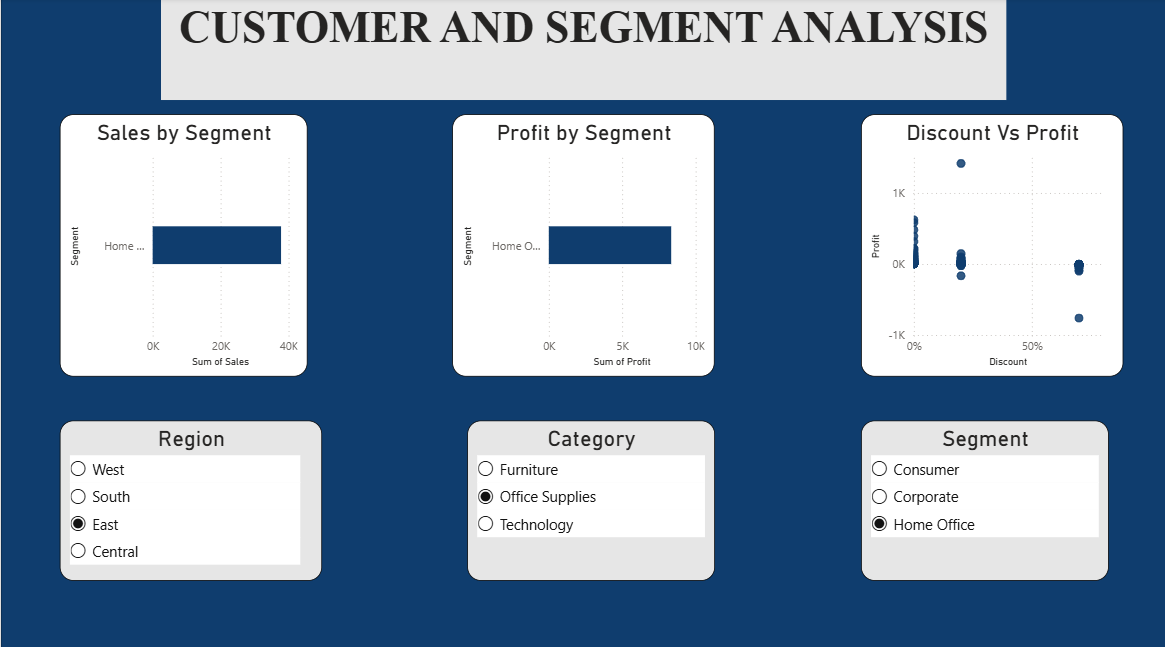

This screenshot's page, from the dashboard's own definition file:
{"tool":"powerbi","page":{"name":"Page 2","canvas":[1280,720],"ordinal":1},"visuals":[{"type":"shape","box":[0,0,1280,720],"z":0},{"type":"clusteredBarChart","title":"Sales by Segment","fields":{"Category":["superstore_data.Segment"],"Y":["Sum(superstore_data.Sales)"]},"box":[64,128,272,288],"z":1000},{"type":"clusteredBarChart","title":"Profit by Segment","fields":{"Y":["Sum(superstore_data.Profit)"],"Category":["superstore_data.Segment"]},"box":[496,128,288,288],"z":2000},{"type":"scatterChart","title":"Discount Vs Profit","fields":{"X":["superstore_data.Discount"],"Y":["superstore_data.Profit"]},"box":[944,128,288,288],"z":3000},{"type":"listSlicer","fields":{"Values":["superstore_data.Region"]},"box":[64,464,288,176],"z":4000},{"type":"listSlicer","fields":{"Values":["superstore_data.Category"]},"box":[512,464,272,176],"z":5000},{"type":"listSlicer","fields":{"Values":["superstore_data.Segment"]},"box":[944,464,272,176],"z":6000},{"type":"textbox","box":[176,0,928,112],"z":7000}]}

Visuals, with their boxes in screenshot pixels (x1, y1, x2, y2), scaled from the page's 1280x720 canvas onto the 1165x647 screenshot:
shape: 0,0,1164,646
"Sales by Segment" clusteredBarChart: 58,115,306,374
"Profit by Segment" clusteredBarChart: 451,115,714,374
"Discount Vs Profit" scatterChart: 859,115,1121,374
listSlicer - superstore_data.Region: 58,417,320,575
listSlicer - superstore_data.Category: 466,417,714,575
listSlicer - superstore_data.Segment: 859,417,1107,575
textbox: 160,0,1005,101
